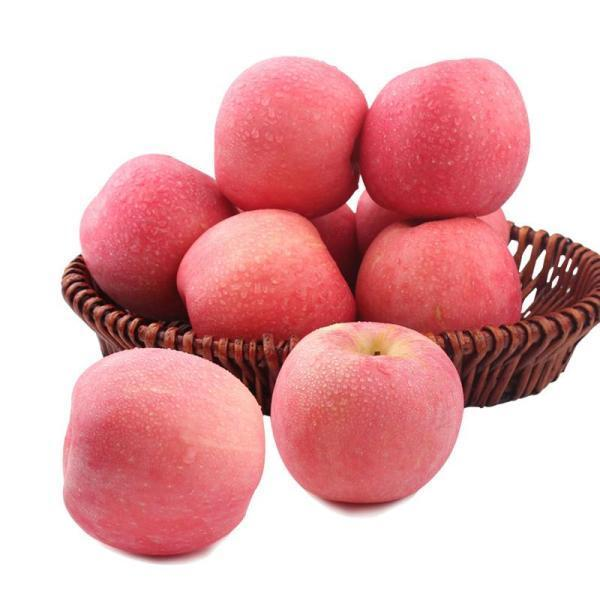apple: (64, 350, 269, 559), (270, 319, 462, 507), (357, 55, 529, 219), (76, 153, 226, 324), (211, 53, 363, 219), (175, 207, 354, 346), (351, 219, 520, 329)
